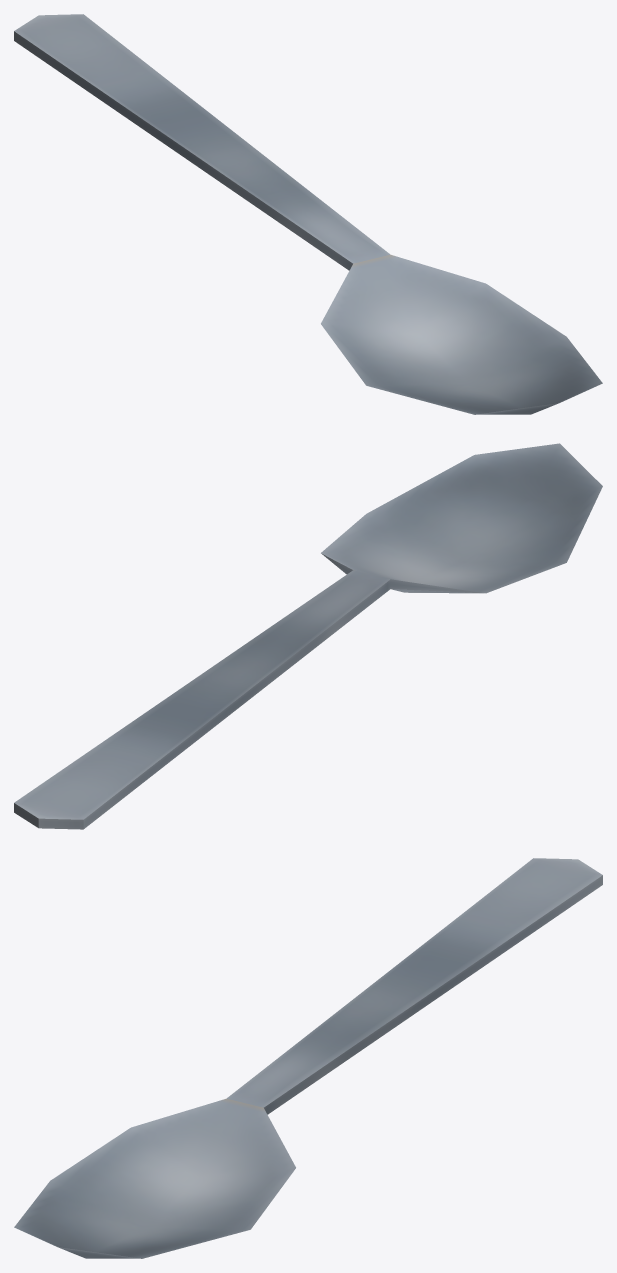
The model's file is jsf_Spoon_02.fbx.
3 renders of one model, top to bottom at view 1: azimuth 30°, elevation 25°; view 2: azimuth 150°, elevation 25°; view 3: azimuth 330°, elevation 25°, orthographic.
Visible parts, largest first — view 1: jsf_Spoon_02; view 2: jsf_Spoon_02; view 3: jsf_Spoon_02.
Boxes of the visible parts, x1,y1,x2,y2 form: jsf_Spoon_02: (14, 14, 602, 414); jsf_Spoon_02: (14, 443, 602, 829); jsf_Spoon_02: (14, 858, 602, 1258).
Bounding box in the file's own units: 4 × 1.08 × 18.
